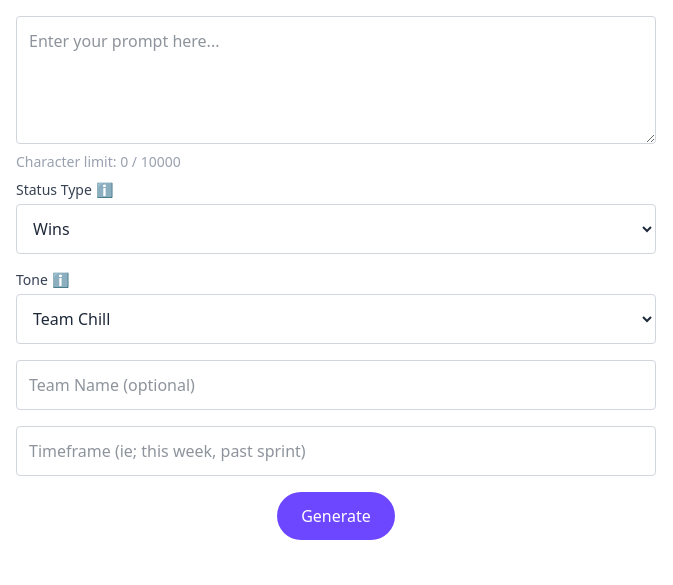
PromptForm › shows an error if API returns an error
The image size is (673, 585).
In the text box with placeholder "Enter your prompt here...": (336, 80) [16,16,656,144], type "Sprint update"
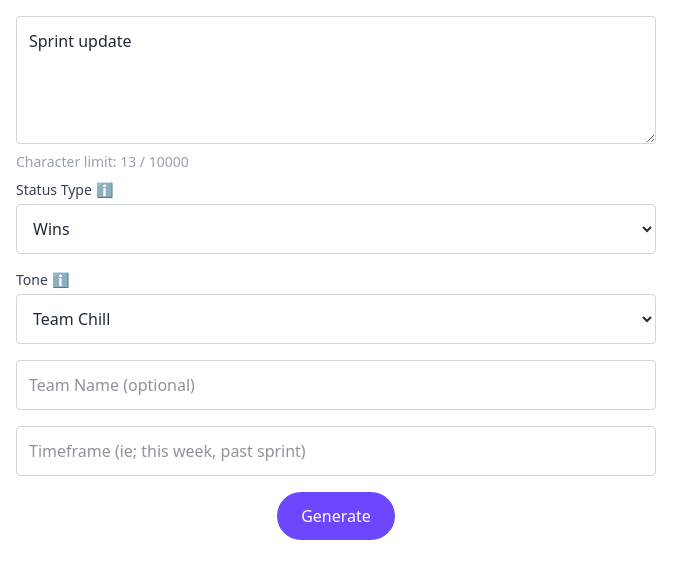
Click the button "Generate": (336, 516) [277,492,395,540]
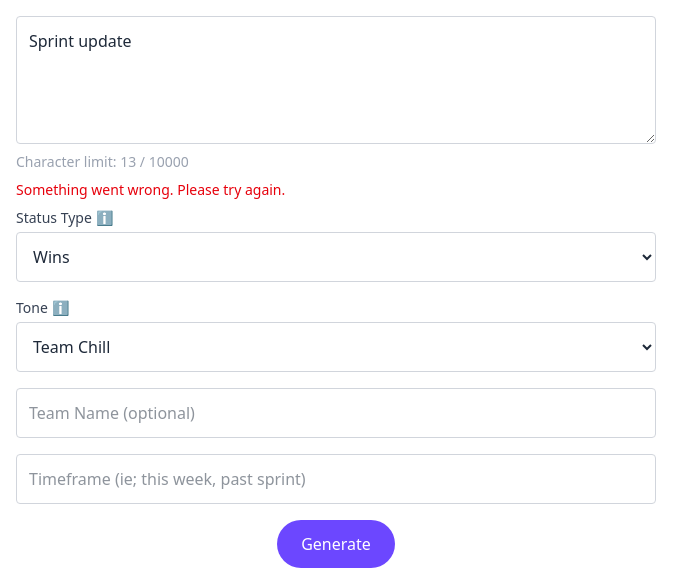
Check: the text "Something went wrong. Please try again." is shown, box [16,180,285,199]
